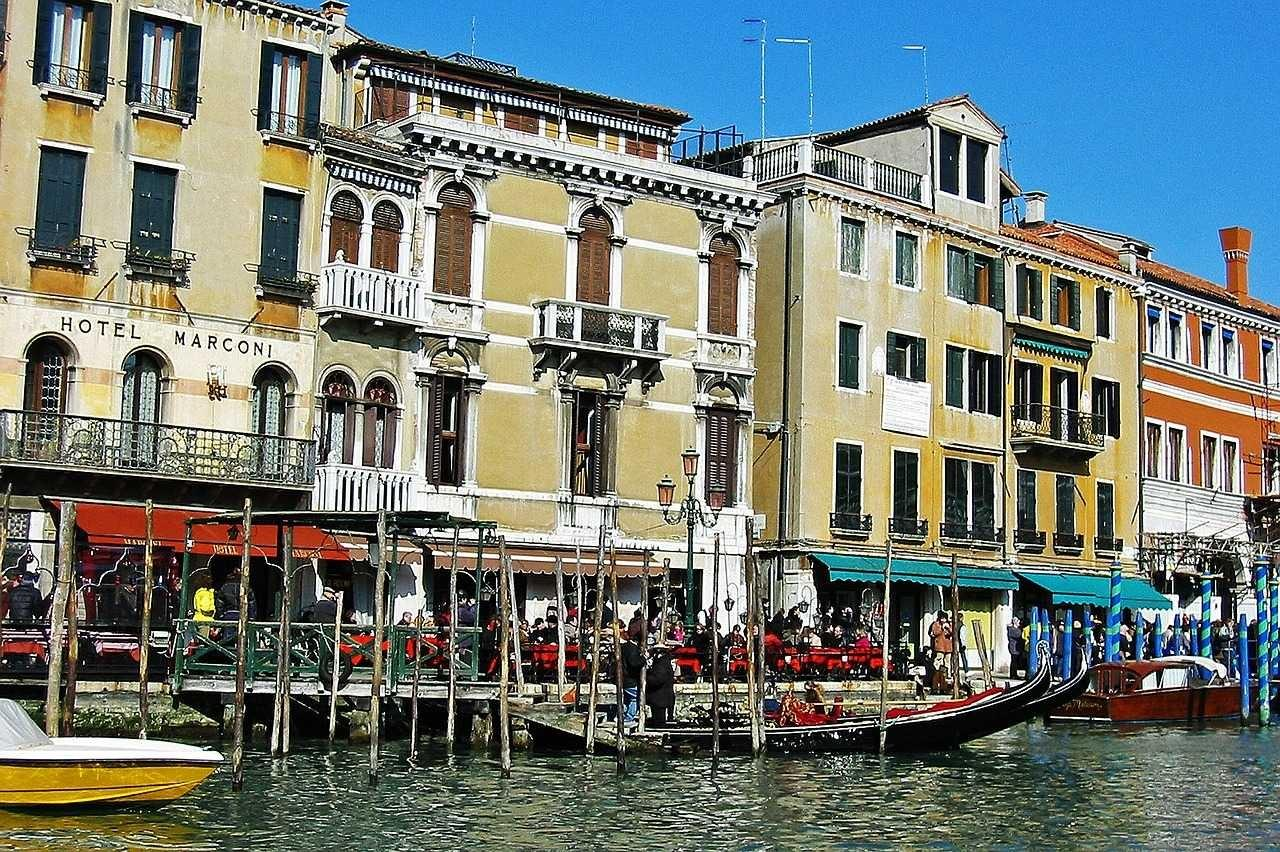kayak: (519, 646, 1091, 760), (0, 698, 224, 813), (172, 646, 374, 741), (1046, 656, 1247, 725), (516, 701, 672, 758), (392, 675, 501, 732), (529, 642, 584, 680)
